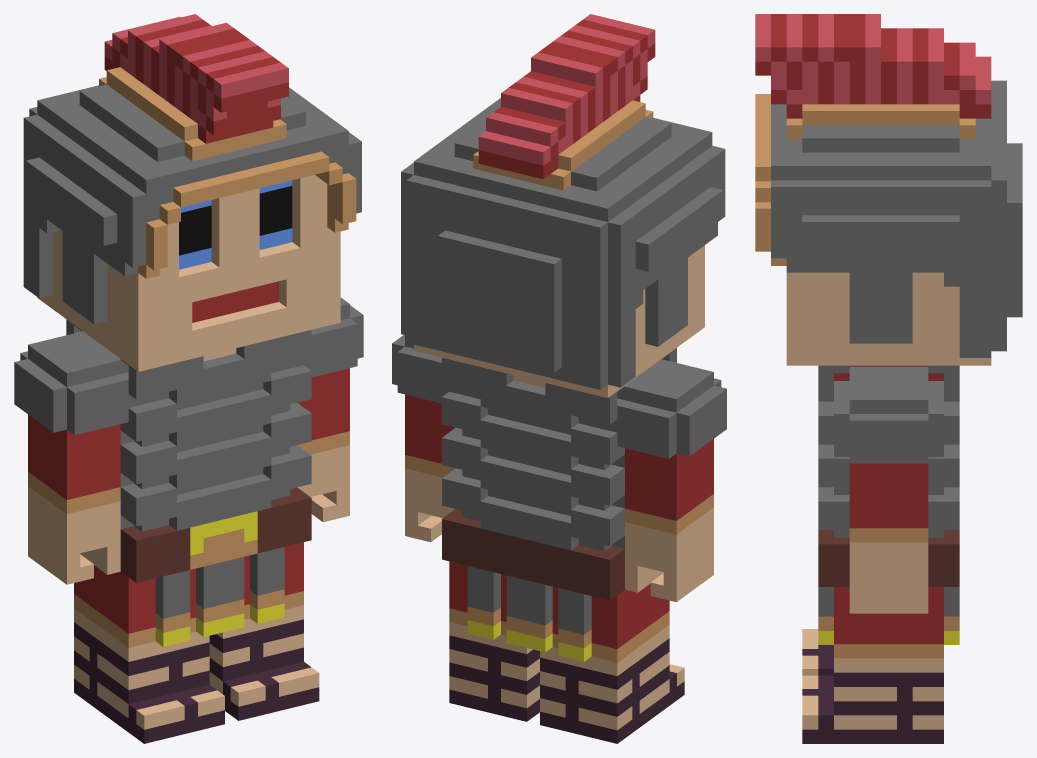
File: Legionnaire.dae
The picture shows the model from 3 angles, left to right: view 1: azimuth 30°, elevation 25°; view 2: azimuth 150°, elevation 25°; view 3: azimuth 270°, elevation 25°; orthographic projection. The views are drawn at different scales.
Parts seen in each view (by area): view 1: Legionnaire; view 2: Legionnaire; view 3: Legionnaire.
Boxes of the visible parts, box(x1,y1,x2,y2) form: Legionnaire: box(14, 14, 363, 743); Legionnaire: box(392, 14, 726, 743); Legionnaire: box(755, 14, 1022, 743).
Size of the model in its own units: 23 by 17 by 47.
1 material, 1 textured.
